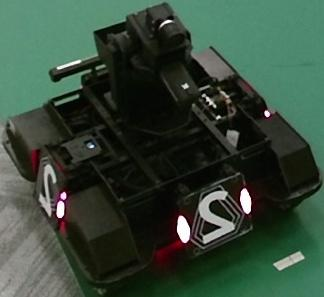armor_2: (177, 188, 252, 243)
front_2: (191, 185, 244, 249)
right_2: (37, 155, 62, 219)
